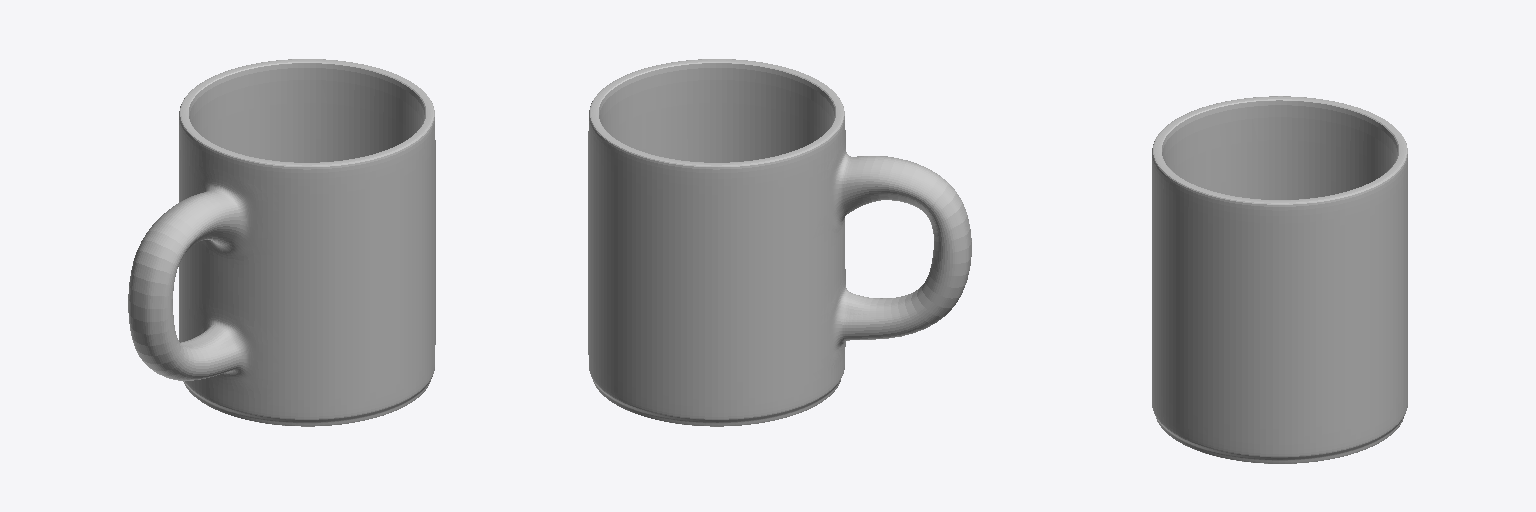
Rendered from mug.obj.
3 renders of one model, left to right at view 1: azimuth 30°, elevation 25°; view 2: azimuth 150°, elevation 25°; view 3: azimuth 270°, elevation 25°, orthographic.
Visible parts, largest first — view 1: Cup_Cylinder.001; view 2: Cup_Cylinder.001; view 3: Cup_Cylinder.001.
Boxes of the visible parts, <box> form: Cup_Cylinder.001: <box>128,59,435,426</box>; Cup_Cylinder.001: <box>588,59,971,426</box>; Cup_Cylinder.001: <box>1152,96,1407,463</box>.
Size of the model in its own units: 0.5686 by 0.4397 by 0.3898.